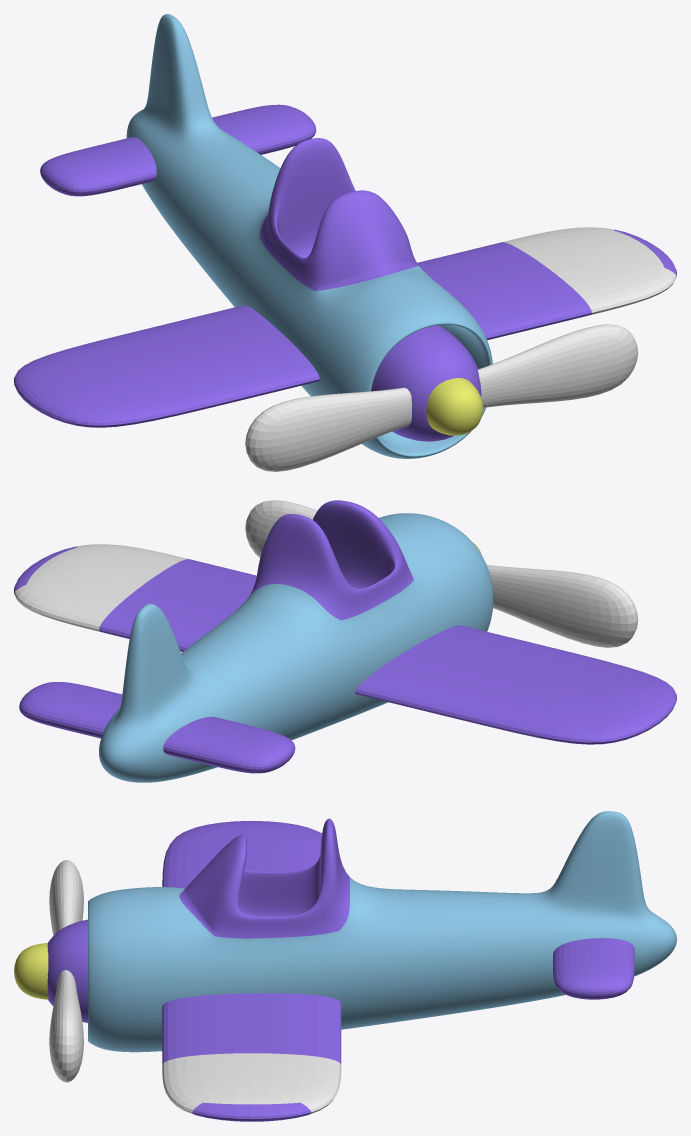
File: Tuto-Plane.fbx
The picture shows the model from 3 angles, top to bottom: view 1: azimuth 30°, elevation 25°; view 2: azimuth 150°, elevation 25°; view 3: azimuth 270°, elevation 25°; orthographic projection. The views are drawn at different scales.
Visible parts, largest first — view 1: 立方体, 立方体.001, 立方体.006, 立方体.002, 立方体.003, 立方体.005; view 2: 立方体, 立方体.001, 立方体.006, 立方体.002; view 3: 立方体, 立方体.001, 立方体.006, 立方体.002, 立方体.003, 立方体.005.
Boxes of the visible parts, x1=… form: 立方体: x1=126, y1=14, x2=492, y2=458; 立方体.001: x1=14, y1=227, x2=676, y2=427; 立方体.006: x1=245, y1=324, x2=638, y2=471; 立方体.002: x1=40, y1=104, x2=316, y2=196; 立方体.003: x1=371, y1=325, x2=481, y2=441; 立方体.005: x1=426, y1=378, x2=483, y2=435; 立方体: x1=99, y1=500, x2=493, y2=782; 立方体.001: x1=14, y1=544, x2=676, y2=744; 立方体.006: x1=245, y1=500, x2=638, y2=647; 立方体.002: x1=19, y1=682, x2=295, y2=773; 立方体: x1=88, y1=811, x2=676, y2=1052; 立方体.001: x1=162, y1=821, x2=341, y2=1121; 立方体.006: x1=49, y1=860, x2=83, y2=1082; 立方体.002: x1=553, y1=879, x2=634, y2=999; 立方体.003: x1=47, y1=919, x2=87, y2=1022; 立方体.005: x1=14, y1=943, x2=48, y2=999.
Bounding box in the file's own units: 716 × 268 × 679.
